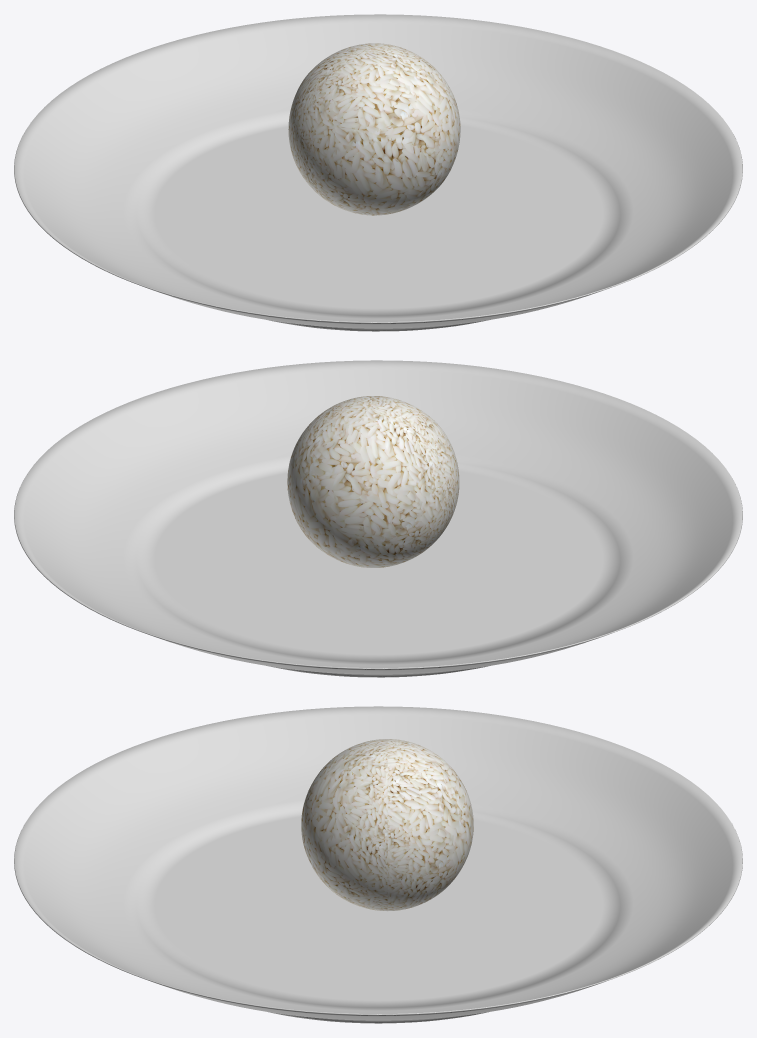
The model's file is Plato Arroz.fbx.
The picture shows the model from 3 angles, top to bottom: view 1: azimuth 30°, elevation 25°; view 2: azimuth 150°, elevation 25°; view 3: azimuth 270°, elevation 25°; orthographic projection.
Visible parts, largest first — view 1: Plate.001; view 2: Plate.001; view 3: Plate.001.
Boxes of the visible parts, <box> form: Plate.001: <box>14,14,742,331</box>; Plate.001: <box>14,360,742,677</box>; Plate.001: <box>14,706,742,1023</box>.
Size of the model in its own units: 51.97 by 14.07 by 51.97.
Materials: 2 (1 with a texture image).
